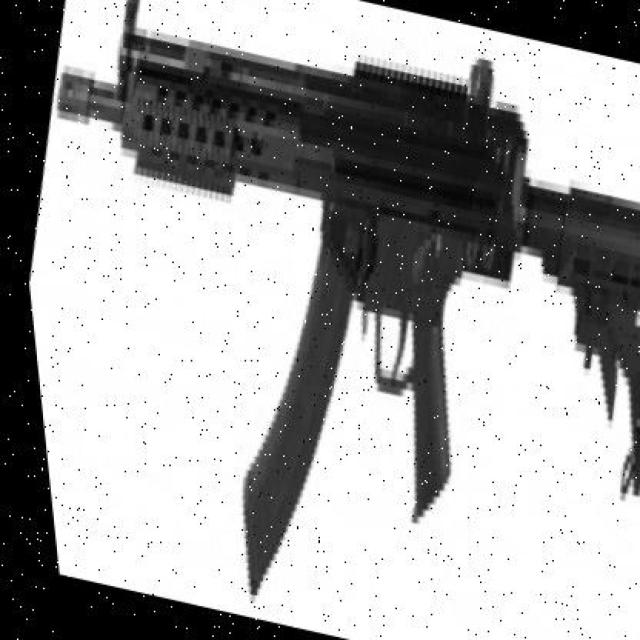weapon: (58, 0, 640, 600)
